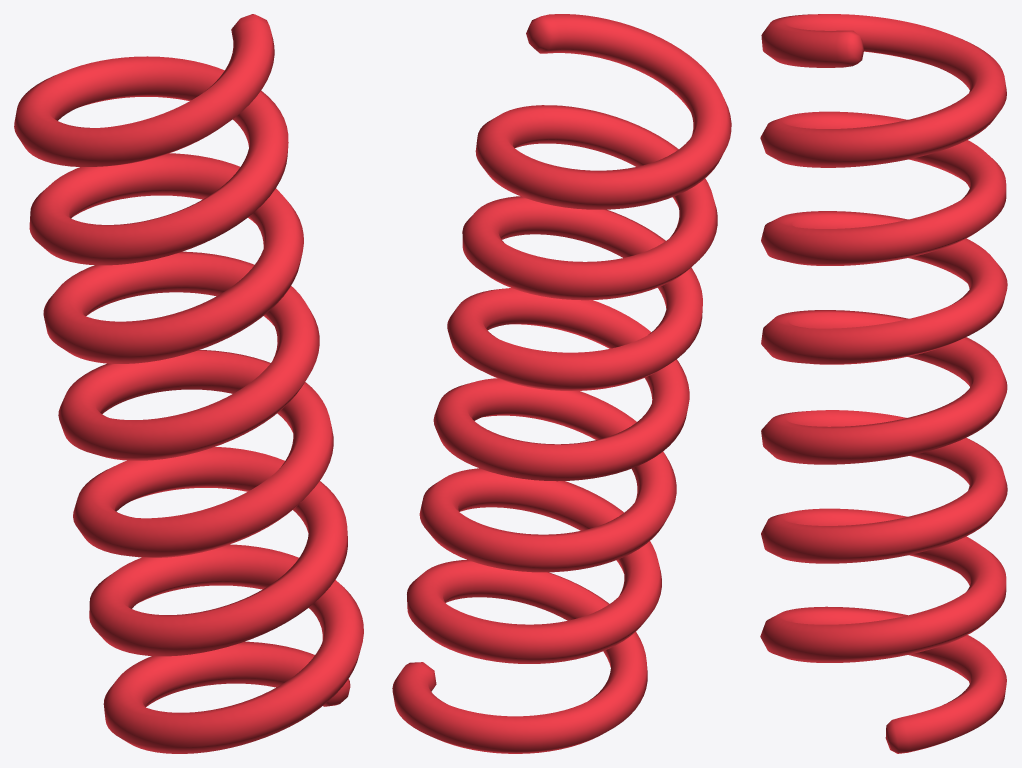
Rendered from GEO_Suspension_RL_Coilover_Spring.glb.
3 views of the same model, side by side, from view 1: azimuth 30°, elevation 25°; view 2: azimuth 150°, elevation 25°; view 3: azimuth 270°, elevation 25° (orthographic). The views are drawn at different scales.
Parts seen in each view (by area): view 1: GEO_Suspension_RL_Coilover_Spring; view 2: GEO_Suspension_RL_Coilover_Spring; view 3: GEO_Suspension_RL_Coilover_Spring.
Part boxes in pixels (x1,y1,x2,y2): GEO_Suspension_RL_Coilover_Spring: (14,14,363,753); GEO_Suspension_RL_Coilover_Spring: (392,14,731,753); GEO_Suspension_RL_Coilover_Spring: (760,14,1007,753).
Size of the model in its own units: 0.1504 by 0.3244 by 0.1081.
